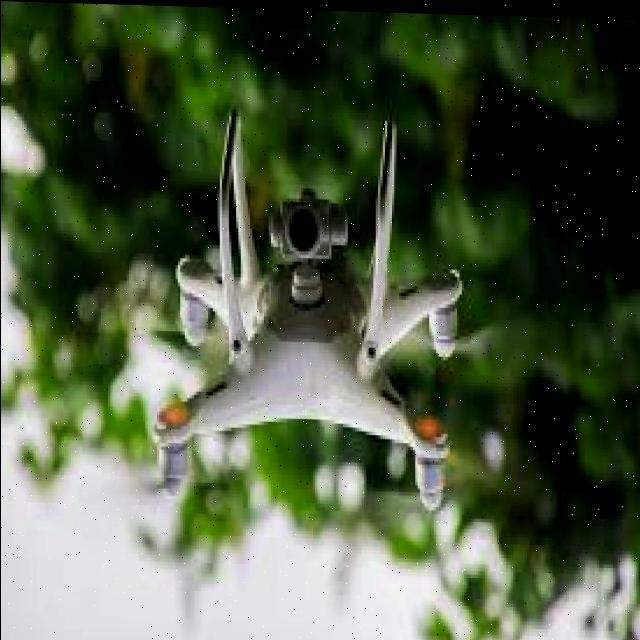drone: (92, 60, 504, 546)
